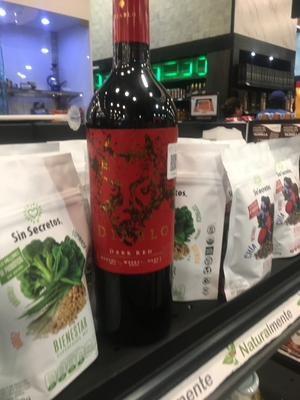diablo dark red: (76, 14, 192, 341)
